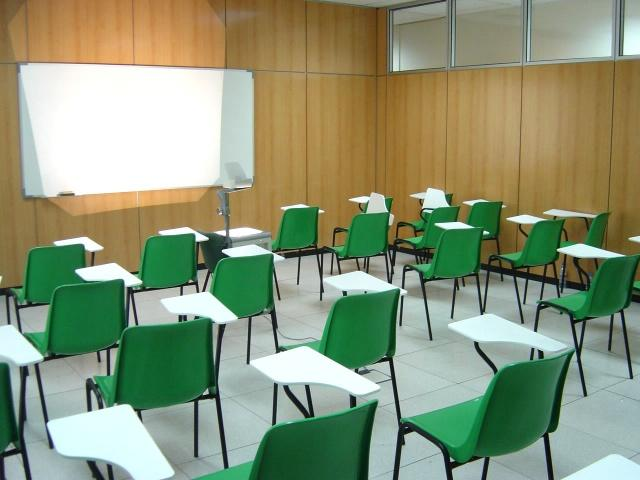Kursi: (391, 346, 575, 479), (85, 316, 229, 471), (528, 251, 637, 396), (323, 286, 402, 427), (400, 228, 485, 340), (479, 218, 564, 325), (26, 279, 125, 361), (210, 254, 279, 362), (319, 211, 391, 285), (135, 230, 199, 296), (269, 203, 320, 274)
Whiteboard: (14, 59, 256, 195)
